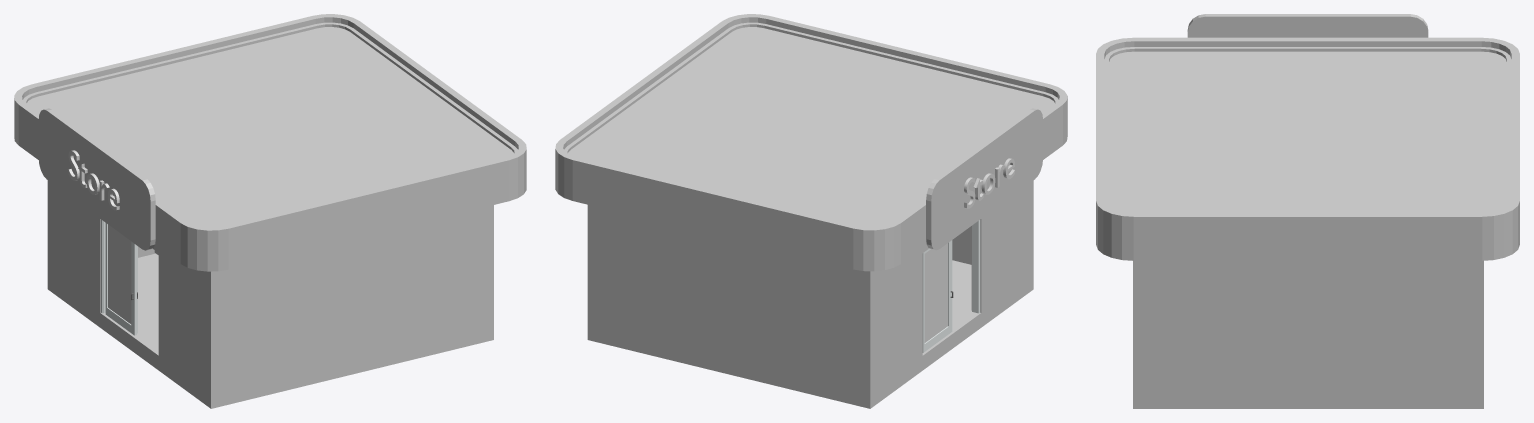
Rendered from Store.fbx.
3 renders of one model, left to right at view 1: azimuth 30°, elevation 25°; view 2: azimuth 150°, elevation 25°; view 3: azimuth 270°, elevation 25°, orthographic. The views are drawn at different scales.
Visible parts, largest first — view 1: Celling, Wall, Floor, Signboard, 16668_84x96_Slider_Door-Black_V1.001, Text, Door; view 2: Celling, Wall, Floor, Signboard, 16668_84x96_Slider_Door-Black_V1.001, Text, Door; view 3: Celling, Wall, Signboard, Floor.
Part boxes in pixels (x1=…): Celling: x1=14, y1=14, x2=526, y2=271; Wall: x1=47, y1=180, x2=493, y2=393; Floor: x1=47, y1=253, x2=493, y2=408; Signboard: x1=38, y1=108, x2=155, y2=250; 16668_84x96_Slider_Door-Black_V1.001: x1=105, y1=223, x2=137, y2=335; Text: x1=68, y1=150, x2=119, y2=210; Door: x1=101, y1=219, x2=137, y2=333; Celling: x1=555, y1=14, x2=1067, y2=271; Wall: x1=587, y1=180, x2=1033, y2=393; Floor: x1=587, y1=260, x2=1033, y2=408; Signboard: x1=926, y1=108, x2=1042, y2=250; 16668_84x96_Slider_Door-Black_V1.001: x1=922, y1=240, x2=953, y2=352; Text: x1=964, y1=158, x2=1014, y2=208; Door: x1=972, y1=220, x2=980, y2=313; Celling: x1=1096, y1=37, x2=1519, y2=260; Wall: x1=1133, y1=260, x2=1483, y2=392; Signboard: x1=1187, y1=14, x2=1428, y2=37; Floor: x1=1133, y1=393, x2=1483, y2=408.
Size of the model in its own units: 330 by 192 by 322.
